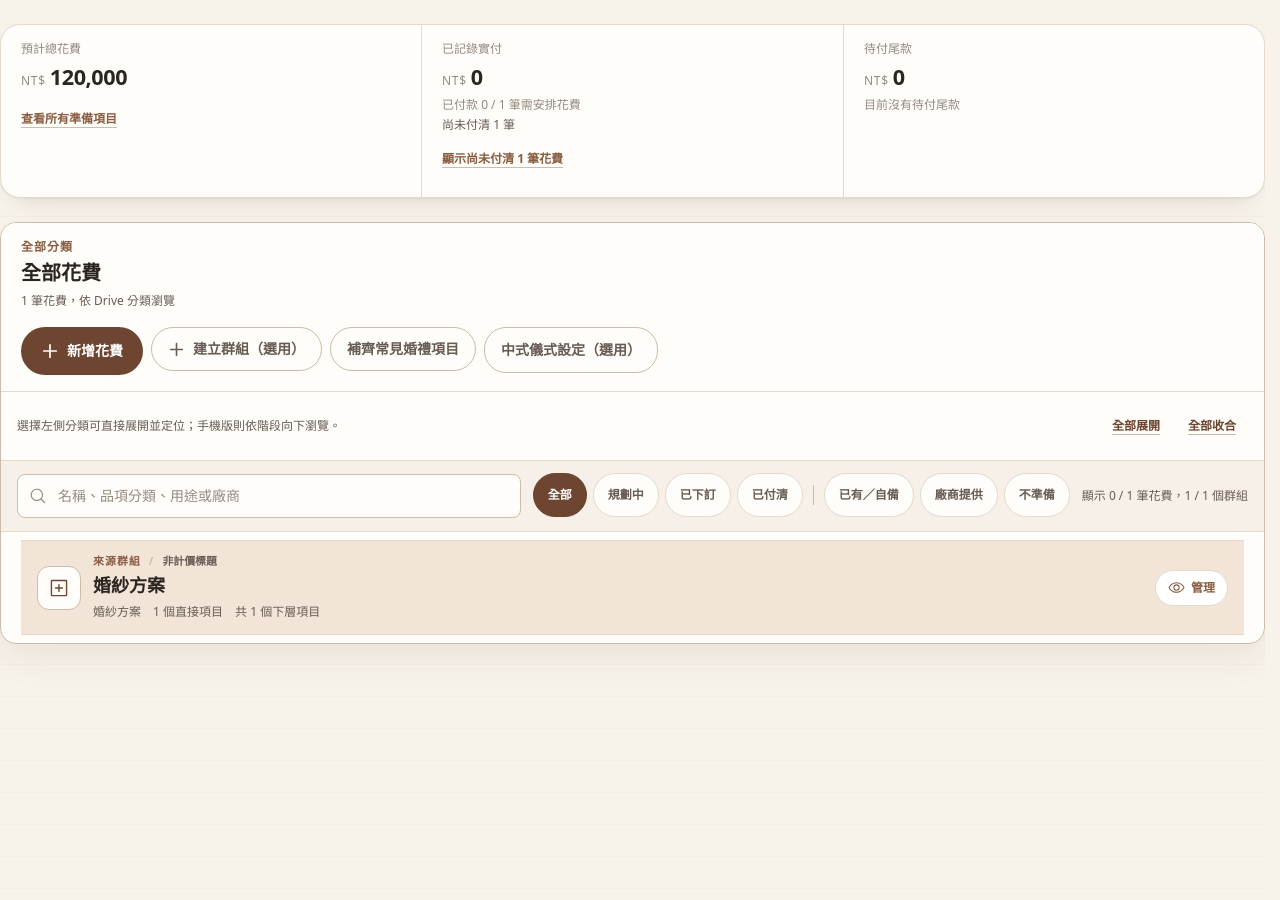
Test: budget taxonomy UI › renders group and expense semantics, direct parent context, and searches item names
Expected: the element showing "來源群組 / 非計價標題 婚紗方案 婚紗方案 1 個直接項目 共 1 個下層項目 管理" is shown, x1=1 y1=540 x2=1264 y2=635
In the search field named "搜尋花費項目": (269, 496) x1=17 y1=474 x2=521 y2=518, type "婚紗攝影"
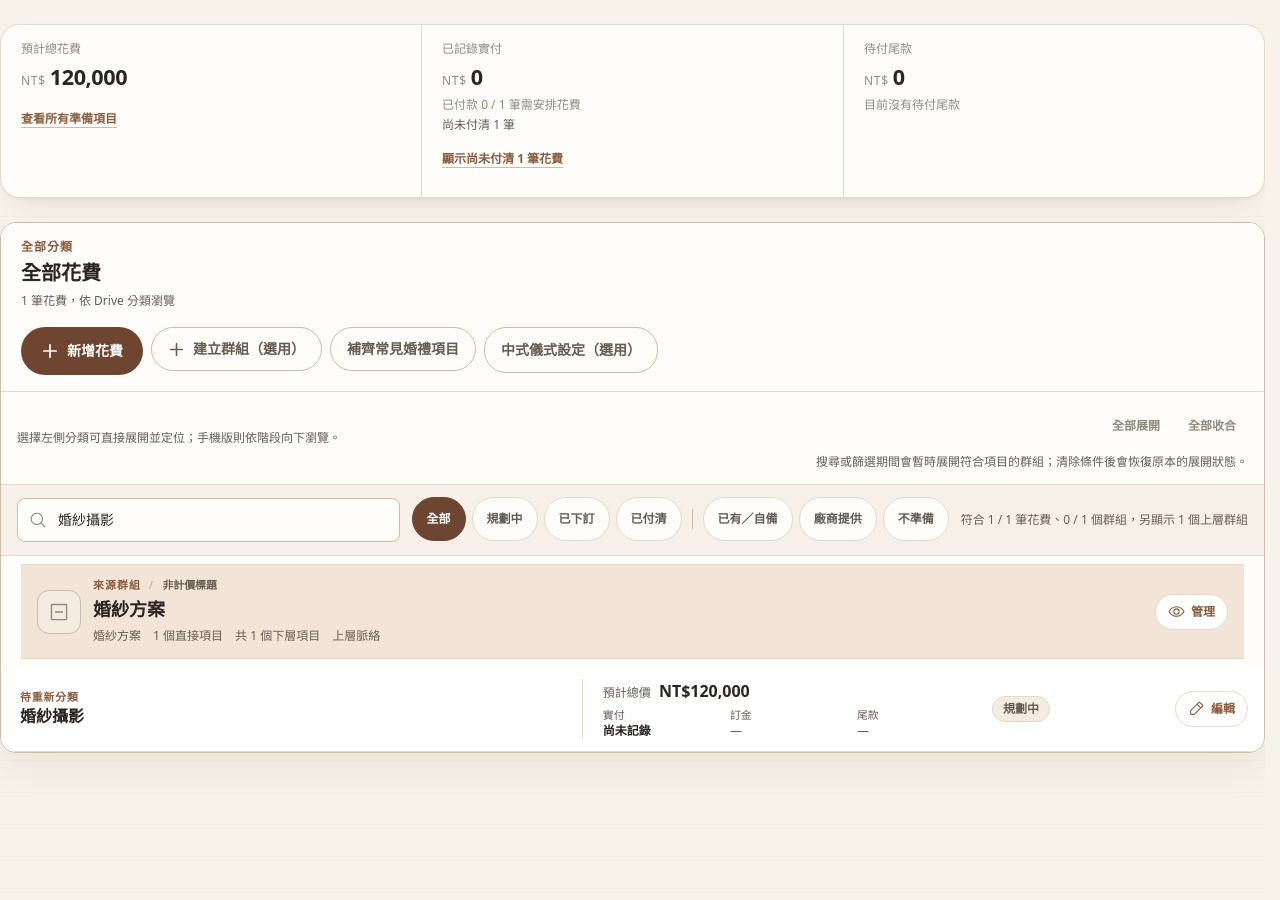
Result: the text "符合 1 / 1 筆花費、0 / 1 個群組，另顯示 1 個上層群組" is shown at x1=961 y1=512 x2=1248 y2=528
